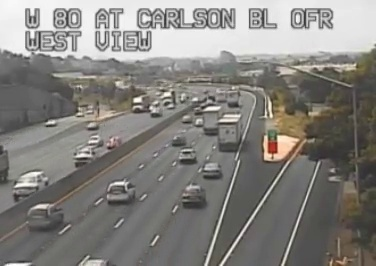car: (28, 203, 62, 229), (107, 181, 134, 201), (181, 186, 204, 205), (202, 163, 221, 178), (178, 148, 196, 162)
truck: (217, 113, 241, 150), (203, 106, 222, 135)
